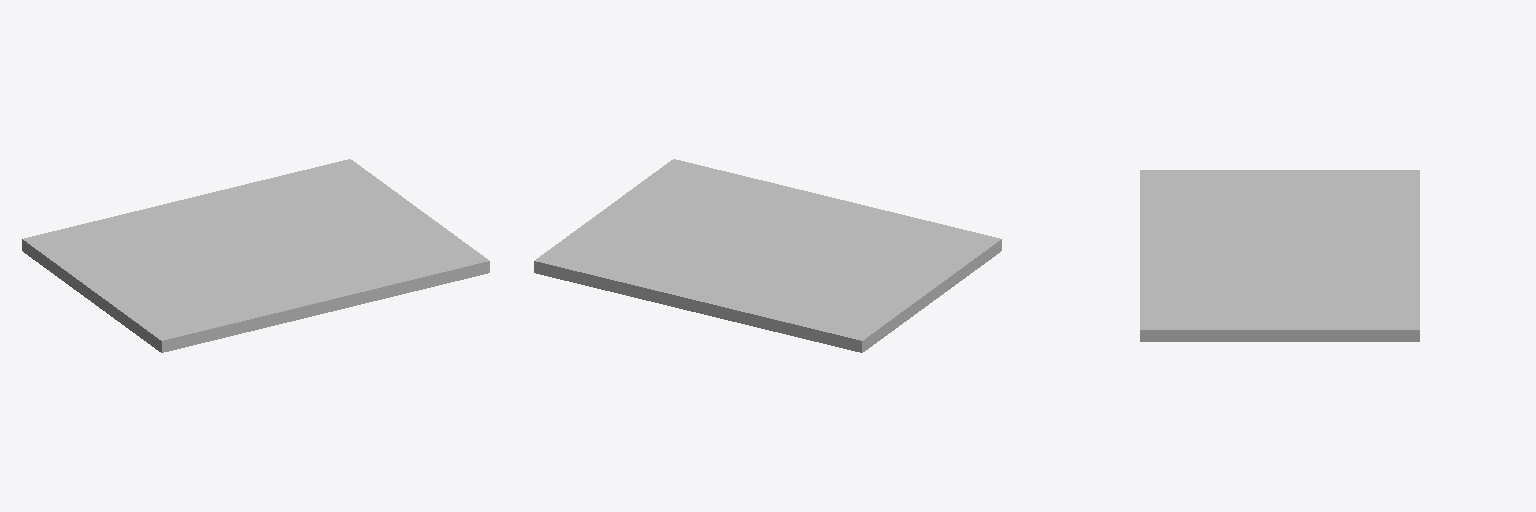
The model's file is negaitve.obj.
The picture shows the model from 3 angles: view 1: azimuth 30°, elevation 25°; view 2: azimuth 150°, elevation 25°; view 3: azimuth 270°, elevation 25°; orthographic projection.
Visible parts, largest first — view 1: negative_Cube; view 2: negative_Cube; view 3: negative_Cube.
Part boxes in pixels (bbox=[...]): negative_Cube: bbox=[22, 159, 489, 352]; negative_Cube: bbox=[534, 159, 1001, 352]; negative_Cube: bbox=[1140, 170, 1419, 341].
Size of the model in its own units: 56.46 by 2 by 41.54.